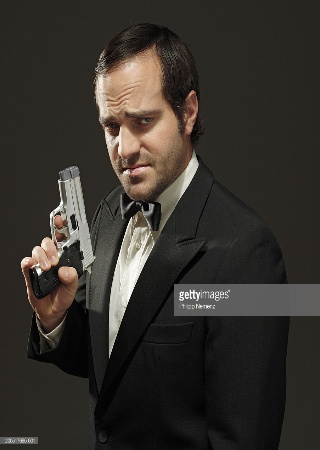handgun: (29, 164, 97, 297)
